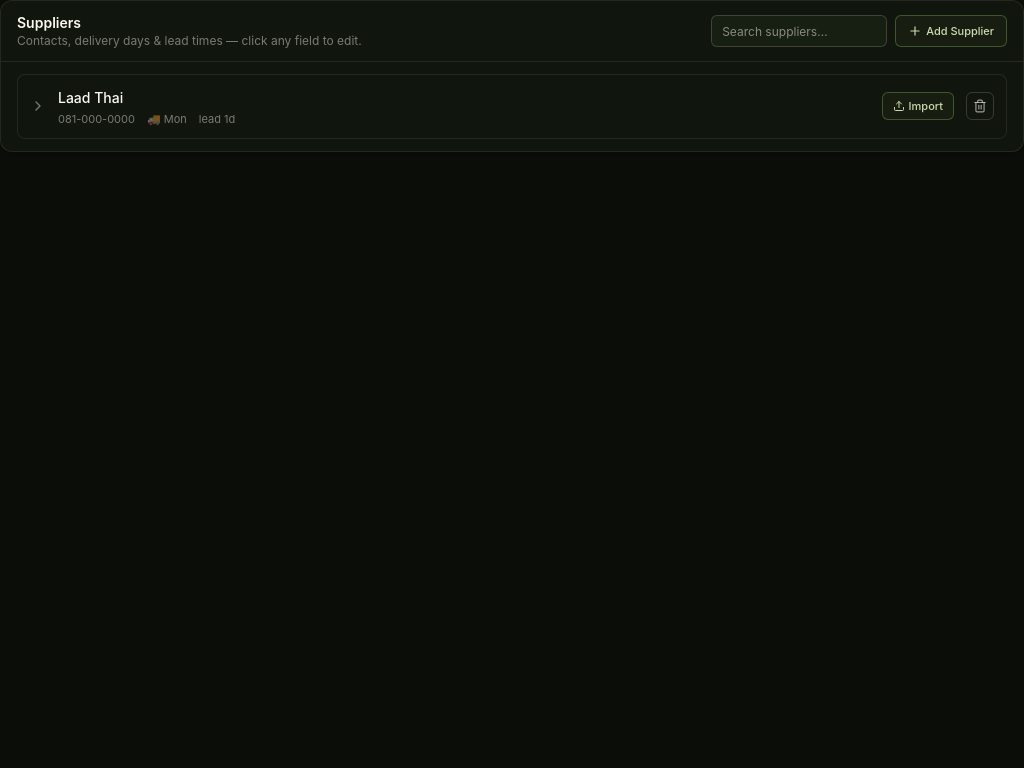
Test: reaching the importer › opens from the collapsed row in one click
Expected: the field with placeholder "Paste the price list" is not shown
Click the button "Import" at (918, 106), box [882,92,954,120]
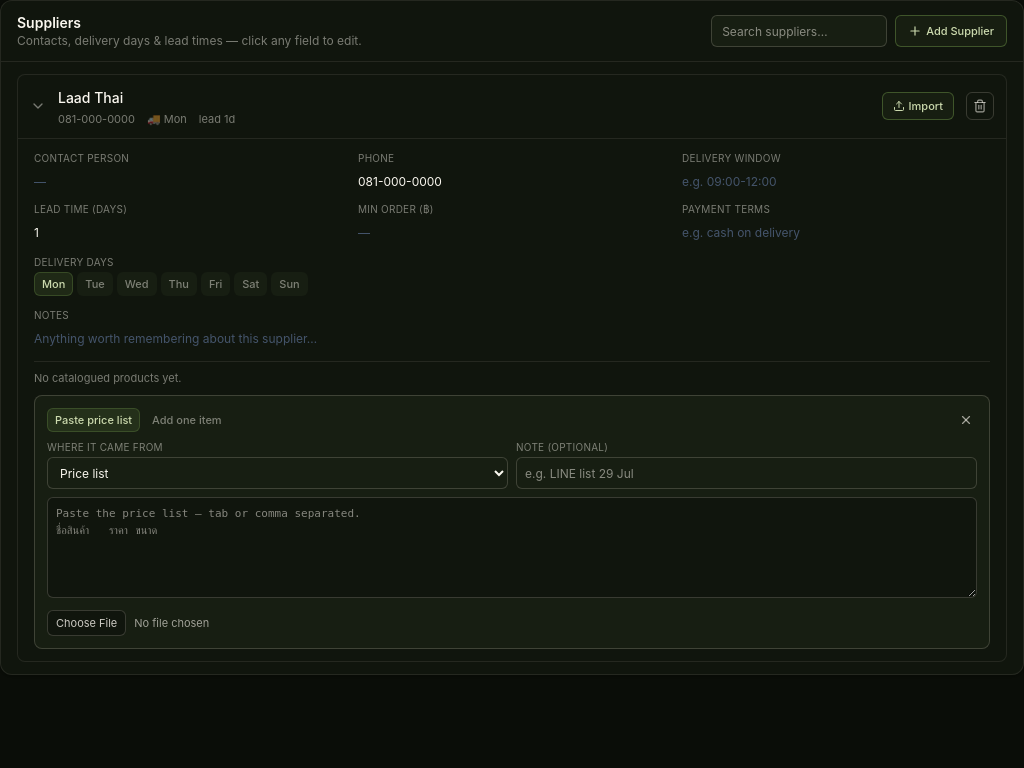
Expected: the text box with placeholder "Paste the price list" is shown, [47,497,977,598]
